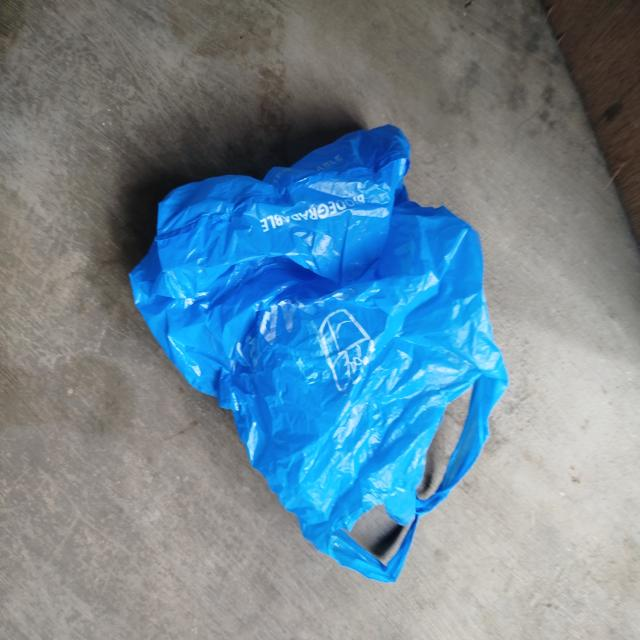residual: (121, 105, 523, 590)
